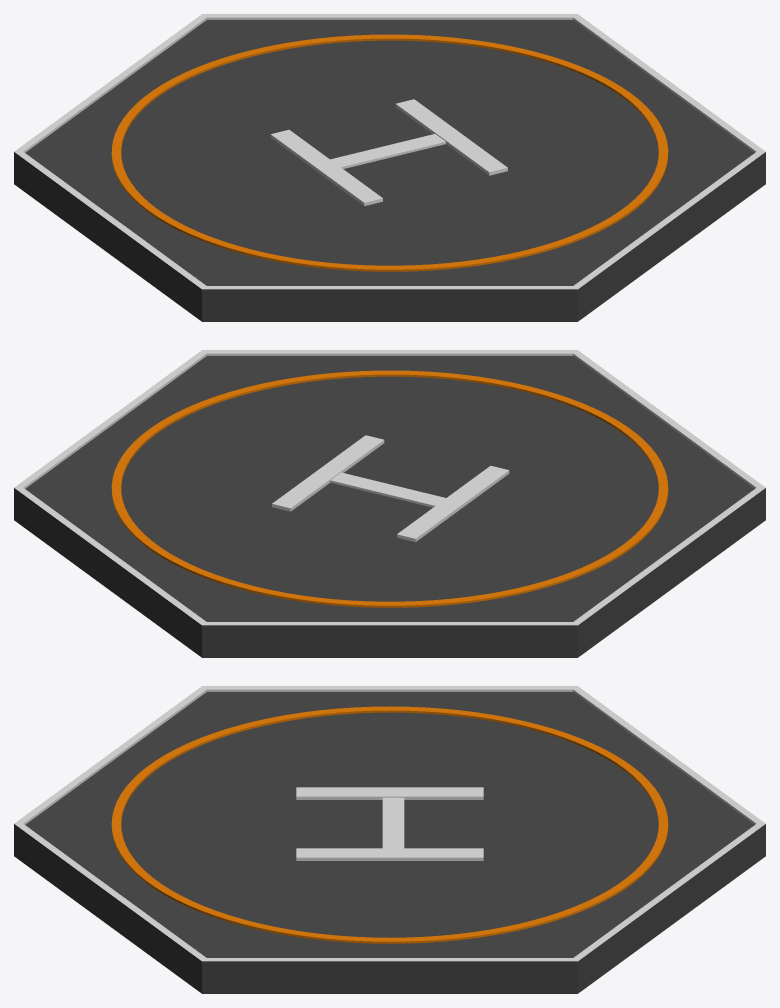
File: Helicopter_base.fbx
3 views of the same model, one above another, from view 1: azimuth 30°, elevation 25°; view 2: azimuth 150°, elevation 25°; view 3: azimuth 270°, elevation 25° (orthographic).
Visible parts, largest first — view 1: Cylinder, Cylinder.001, Cube, Cube.001, Cube.002; view 2: Cylinder, Cylinder.001, Cube, Cube.001, Cube.002; view 3: Cylinder, Cylinder.001, Cube.001, Cube, Cube.002.
Boxes of the visible parts, <box> form: Cylinder: <box>14,14,765,321</box>; Cylinder.001: <box>111,34,668,271</box>; Cube: <box>270,129,382,205</box>; Cube.001: <box>395,99,507,175</box>; Cube.002: <box>330,134,445,168</box>; Cylinder: <box>14,350,765,657</box>; Cylinder.001: <box>111,370,668,607</box>; Cube: <box>397,465,509,541</box>; Cube.001: <box>272,435,384,511</box>; Cube.002: <box>330,472,445,507</box>; Cylinder: <box>14,686,765,993</box>; Cylinder.001: <box>111,706,668,943</box>; Cube.001: <box>296,848,483,860</box>; Cube: <box>296,787,483,799</box>; Cube.002: <box>382,797,404,848</box>.
Size of the model in its own units: 903 by 51.01 by 1042.
